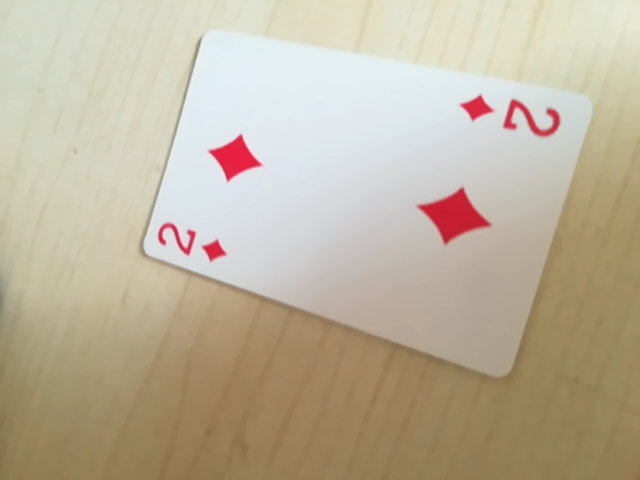fk 2: (456, 90, 566, 143), (153, 213, 234, 269)
